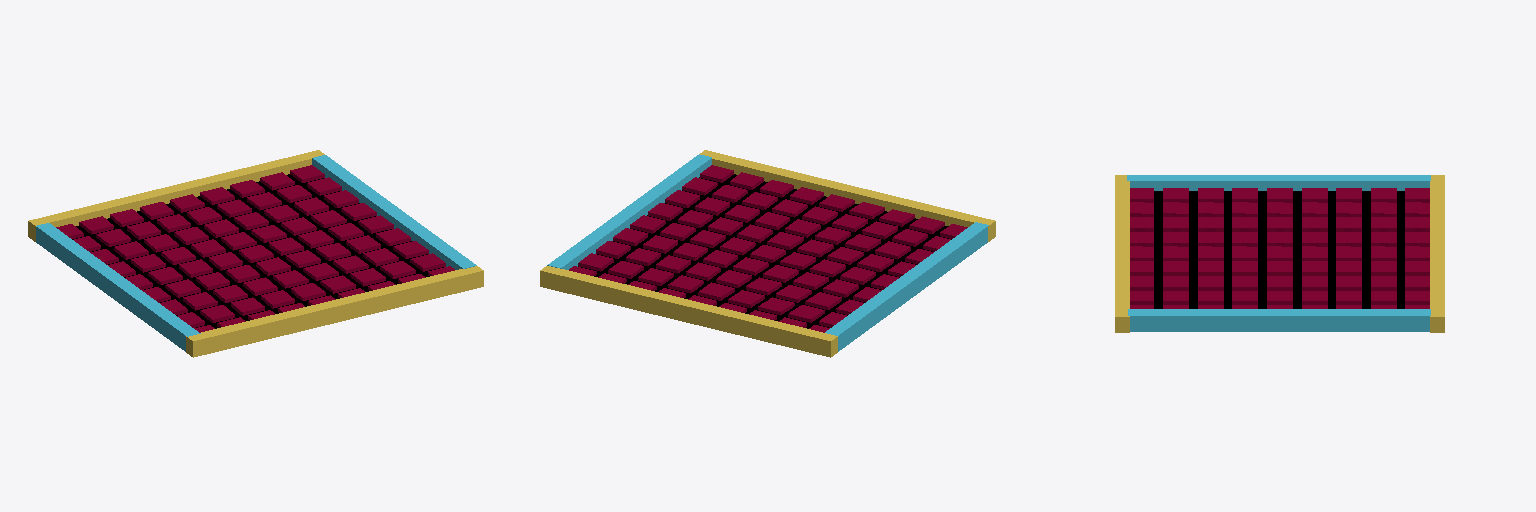
The model's file is boardtake4.obj.
The picture shows the model from 3 angles: view 1: azimuth 30°, elevation 25°; view 2: azimuth 150°, elevation 25°; view 3: azimuth 270°, elevation 25°; orthographic projection.
Parts seen in each view (by area): view 1: Box016, Plane001, Box014, Box017, Box006, Box010, Box011, Box007, Box008, Box009, Box005, Box003 (+2 smaller); view 2: Box017, Plane001, Box014, Box016, Box005, Box009, Box008, Box011, Box010, Box007, Box006, Box012 (+2 smaller); view 3: Plane001, Box015, Box014, Box005, Box006, Box007, Box008, Box009, Box010, Box011, Box003, Box012 (+2 smaller).
Boxes of the visible parts, x1=… form: Box016: x1=186, y1=266, x2=483, y2=357; Plane001: x1=72, y1=174, x2=443, y2=328; Box014: x1=36, y1=223, x2=200, y2=351; Box017: x1=28, y1=150, x2=324, y2=241; Box006: x1=108, y1=203, x2=376, y2=276; Box010: x1=160, y1=241, x2=428, y2=314; Box011: x1=177, y1=253, x2=445, y2=327; Box007: x1=90, y1=190, x2=358, y2=264; Box008: x1=125, y1=215, x2=393, y2=289; Box009: x1=142, y1=228, x2=410, y2=302; Box005: x1=74, y1=177, x2=341, y2=251; Box003: x1=56, y1=165, x2=324, y2=238; Box017: x1=540, y1=266, x2=837, y2=357; Plane001: x1=578, y1=174, x2=951, y2=328; Box014: x1=825, y1=222, x2=988, y2=351; Box016: x1=700, y1=150, x2=995, y2=241; Box005: x1=578, y1=253, x2=846, y2=327; Box009: x1=648, y1=203, x2=915, y2=276; Box008: x1=630, y1=215, x2=898, y2=289; Box011: x1=682, y1=177, x2=950, y2=251; Box010: x1=665, y1=190, x2=933, y2=264; Box007: x1=596, y1=241, x2=863, y2=314; Box006: x1=613, y1=228, x2=881, y2=302; Box012: x1=700, y1=165, x2=967, y2=238; Plane001: x1=1154, y1=191, x2=1404, y2=308; Box015: x1=1128, y1=309, x2=1430, y2=331; Box014: x1=1127, y1=175, x2=1430, y2=190; Box005: x1=1371, y1=188, x2=1396, y2=308; Box006: x1=1302, y1=188, x2=1327, y2=308; Box007: x1=1336, y1=188, x2=1361, y2=308; Box008: x1=1267, y1=188, x2=1292, y2=308; Box009: x1=1232, y1=188, x2=1257, y2=308; Box010: x1=1198, y1=188, x2=1223, y2=308; Box011: x1=1163, y1=188, x2=1188, y2=308; Box003: x1=1405, y1=188, x2=1429, y2=308; Box012: x1=1130, y1=188, x2=1153, y2=308.
Bounding box in the file's own units: 280 × 19.81 × 275.